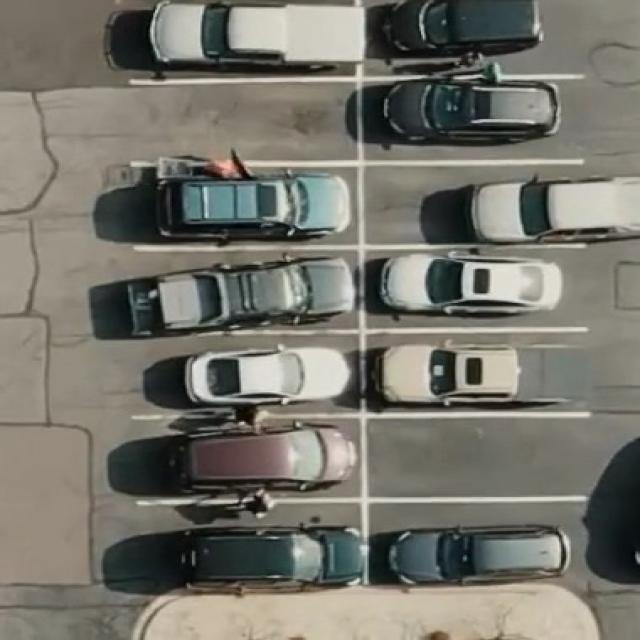space-empty: (124, 78, 362, 168), (359, 412, 598, 500)
space-occupied: (95, 499, 362, 595), (362, 156, 640, 244), (106, 245, 360, 338), (360, 331, 598, 420), (113, 416, 360, 501), (120, 334, 368, 418), (358, 74, 582, 164), (361, 498, 580, 587), (130, 160, 362, 244), (360, 245, 585, 328), (127, 0, 364, 77), (360, 0, 551, 68)
